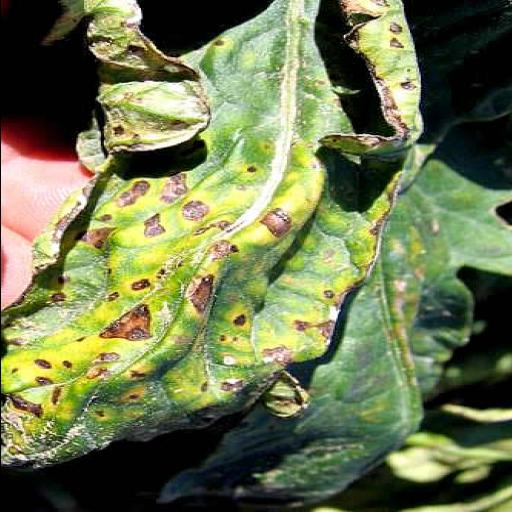disease_tomato: (0, 0, 440, 477)
